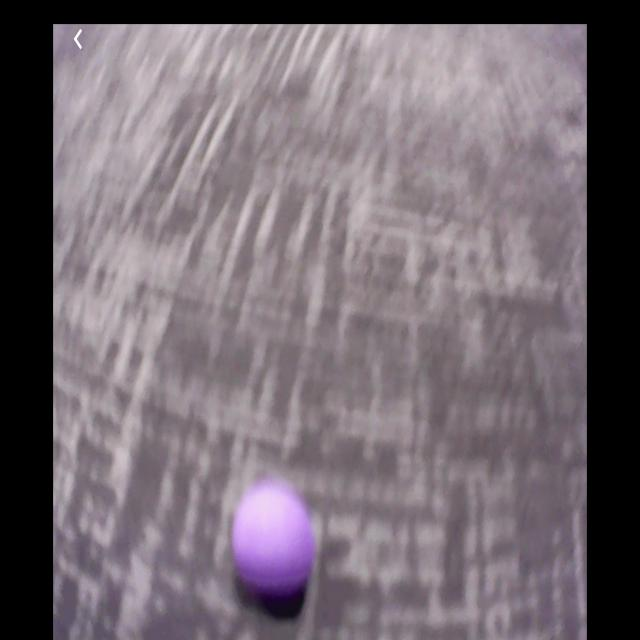ball: (234, 485, 311, 604)
